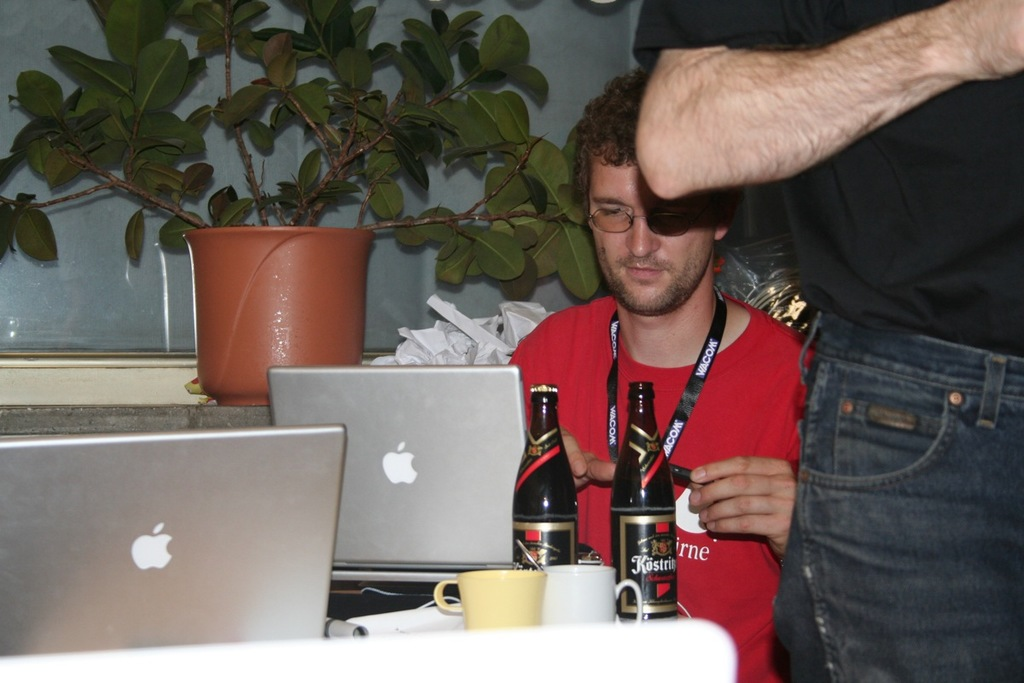Laptop: (7, 419, 345, 683), (269, 368, 527, 582)
